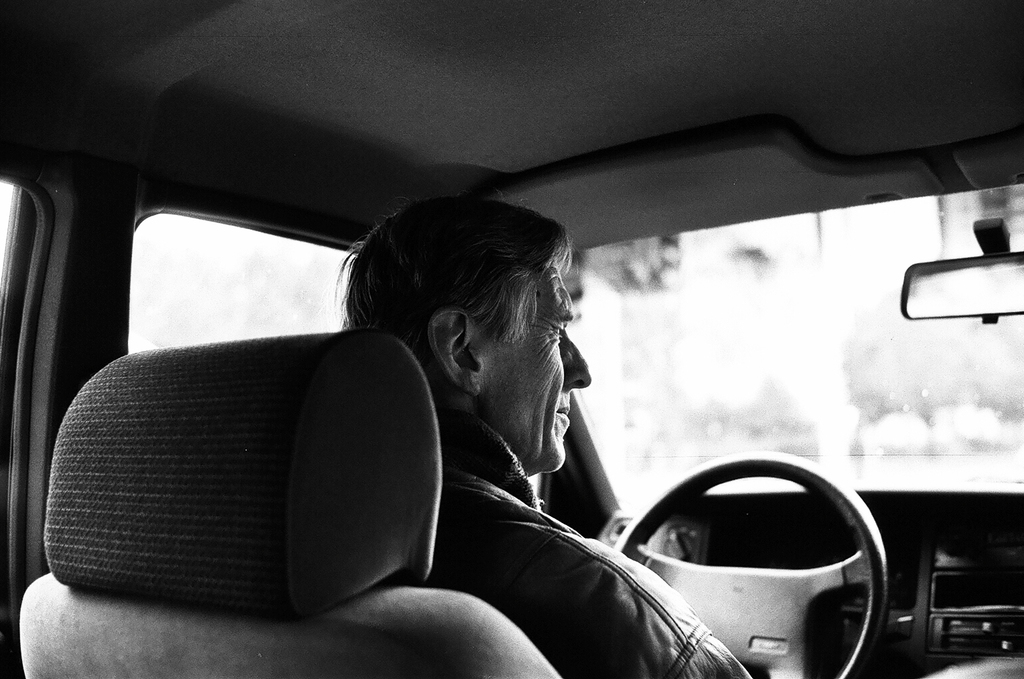car: (609, 402, 918, 671)
